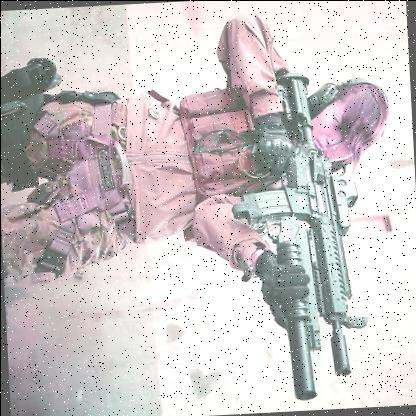rifle: (241, 67, 367, 400)
